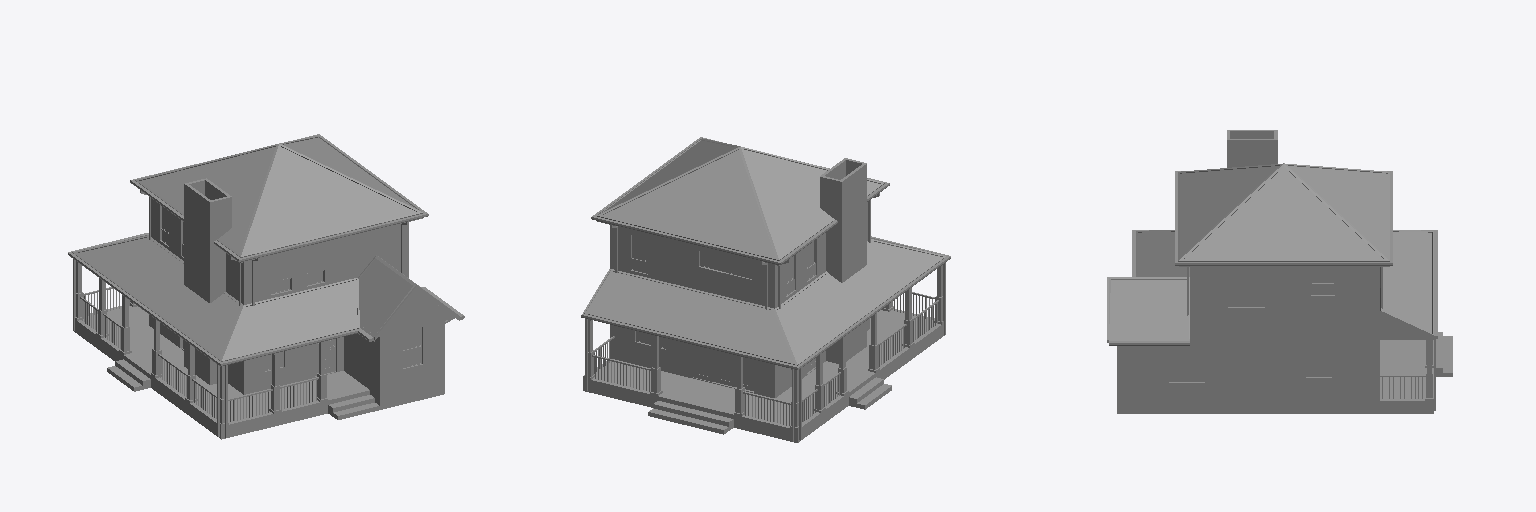
Rendered from house.obj.
3 views of the same model, side by side, from view 1: azimuth 30°, elevation 25°; view 2: azimuth 150°, elevation 25°; view 3: azimuth 270°, elevation 25° (orthographic).
Visible parts, largest first — view 1: 247obj05, 247obj32, 247obj07, 247obj09, 247obj01, 247obj34, 247obj06, 247obj28, 247obj02, 247obj31, 247obj04, 247obj30 (+6 smaller); view 2: 247obj32, 247obj05, 247obj07, 247obj34, 247obj01, 247obj06, 247obj09, 247obj02, 247obj16, 247obj30, 247obj31, 247obj04 (+4 smaller); view 3: 247obj05, 247obj09, 247obj01, 247obj07, 247obj32, 247obj28, 247obj02, 247obj06, 247obj20, 247obj04, 247obj18, 247obj17 (+7 smaller).
Part boxes in pixels (x1,y1,x2,y2): 247obj05: (140,137,416,254); 247obj32: (77,235,357,358); 247obj07: (74,306,444,439); 247obj09: (149,289,444,396); 247obj01: (151,198,408,304); 247obj34: (75,261,327,426); 247obj06: (184,178,231,384); 247obj28: (359,259,412,334); 247obj02: (135,135,423,257); 247obj31: (72,234,359,361); 247obj04: (130,134,428,262); 247obj30: (68,233,357,366); 247obj32: (586,239,941,362); 247obj05: (603,140,879,257); 247obj07: (583,309,944,442); 247obj34: (583,265,943,429); 247obj01: (610,202,867,308); 247obj06: (820,158,866,363); 247obj09: (610,318,869,397); 247obj02: (596,138,884,260); 247obj16: (692,345,754,393); 247obj30: (581,236,950,369); 247obj31: (583,238,945,365); 247obj04: (591,137,889,264); 247obj05: (1180,166,1387,258); 247obj09: (1117,332,1379,400); 247obj01: (1190,267,1379,331); 247obj07: (1117,340,1433,413); 247obj32: (1138,232,1431,332); 247obj28: (1111,280,1187,338); 247obj02: (1178,163,1389,261); 247obj06: (1227,130,1277,167); 247obj20: (1228,271,1265,308); 247obj04: (1175,171,1392,265); 247obj18: (1168,345,1205,382); 247obj17: (1306,340,1332,378).
Size of the model in its own units: 60.69 by 49.48 by 73.92.